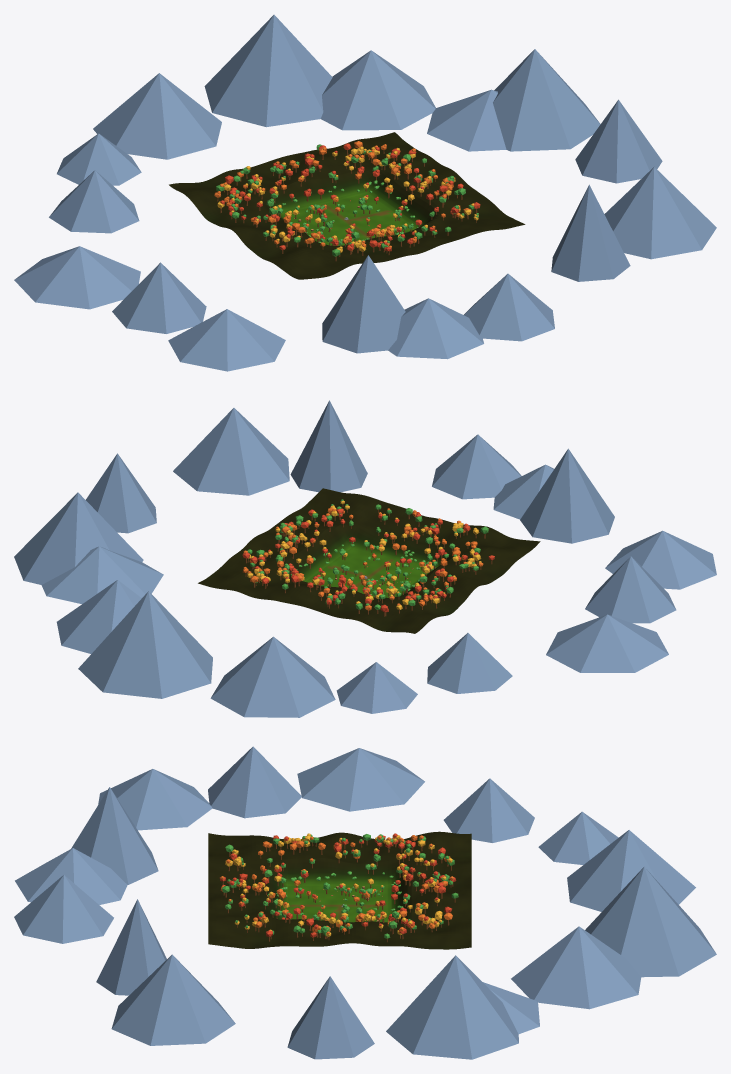
File: akaneForest.glb
3 renders of one model, top to bottom at view 1: azimuth 30°, elevation 25°; view 2: azimuth 150°, elevation 25°; view 3: azimuth 270°, elevation 25°, orthographic. The views are drawn at different scales.
Visible parts, largest first — view 1: mountain, terrain, autumn2, leaf2, autumn1, autumn3, trunk; view 2: mountain, terrain, leaf2, autumn2, autumn3, autumn1, trunk; view 3: mountain, terrain, leaf2, autumn2, autumn3, autumn1, trunk.
Boxes of the visible parts, <box> form: mountain: <box>14,14,716,371</box>; terrain: <box>169,132,525,279</box>; autumn2: <box>220,143,480,251</box>; leaf2: <box>216,144,478,256</box>; autumn1: <box>214,141,470,250</box>; autumn3: <box>217,146,478,252</box>; trunk: <box>217,150,477,261</box>; mountain: <box>14,400,716,717</box>; terrain: <box>198,488,540,633</box>; leaf2: <box>247,499,488,609</box>; autumn2: <box>242,508,494,612</box>; autumn3: <box>247,500,481,609</box>; autumn1: <box>242,507,483,610</box>; trunk: <box>245,504,492,616</box>; mountain: <box>14,746,716,1059</box>; terrain: <box>208,831,471,949</box>; leaf2: <box>222,834,458,938</box>; autumn2: <box>219,833,456,937</box>; autumn3: <box>225,833,452,936</box>; autumn1: <box>220,835,453,934</box>; trunk: <box>222,840,455,942</box>.
Bounding box in the file's own units: 269 × 34.22 × 264.
